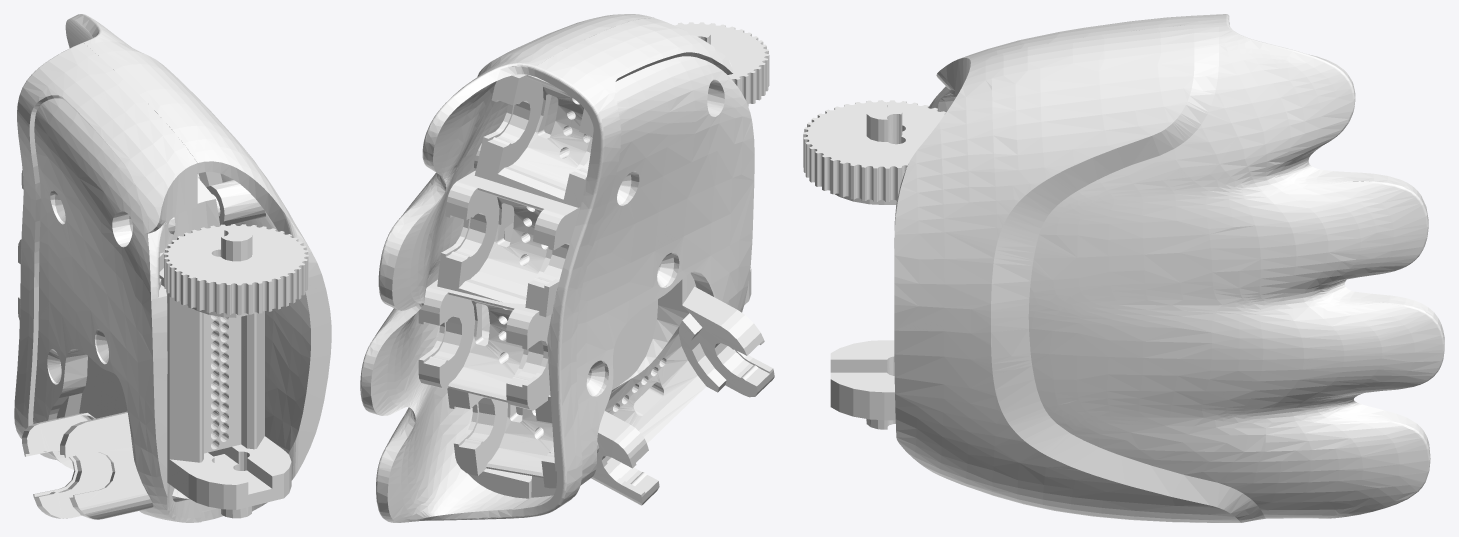
File: lh_wrist_carpal_link0_vis.obj
The picture shows the model from 3 angles, left to right: view 1: azimuth 30°, elevation 25°; view 2: azimuth 150°, elevation 25°; view 3: azimuth 270°, elevation 25°; orthographic projection. The views are drawn at different scales.
Visible parts, largest first — view 1: lh_wrist_carpal_link0; view 2: lh_wrist_carpal_link0; view 3: lh_wrist_carpal_link0.
Boxes of the visible parts, x1,y1,x2,y2 form: lh_wrist_carpal_link0: (14, 14, 331, 522); lh_wrist_carpal_link0: (360, 14, 774, 522); lh_wrist_carpal_link0: (803, 14, 1444, 522).
Bounding box in the file's own units: 0.0479 × 0.0869 × 0.1041.
1 material, 1 textured.
